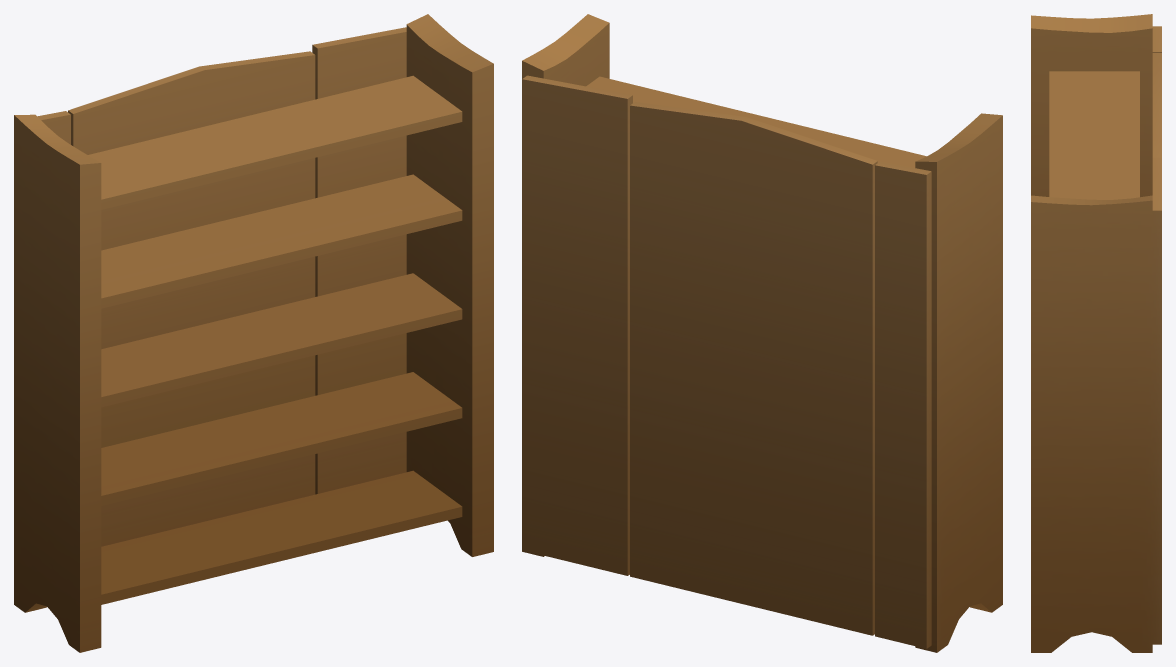
The model's file is closet.FBX.
3 views of the same model, side by side, from view 1: azimuth 30°, elevation 25°; view 2: azimuth 150°, elevation 25°; view 3: azimuth 270°, elevation 25° (orthographic). The views are drawn at different scales.
Visible parts, largest first — view 1: Box025; view 2: Box025; view 3: Box025.
Boxes of the visible parts, x1,y1,x2,y2 form: Box025: (14,14,493,652); Box025: (522,14,1002,652); Box025: (1031,14,1161,652).
Size of the model in its own units: 329 by 97.6 by 372.
